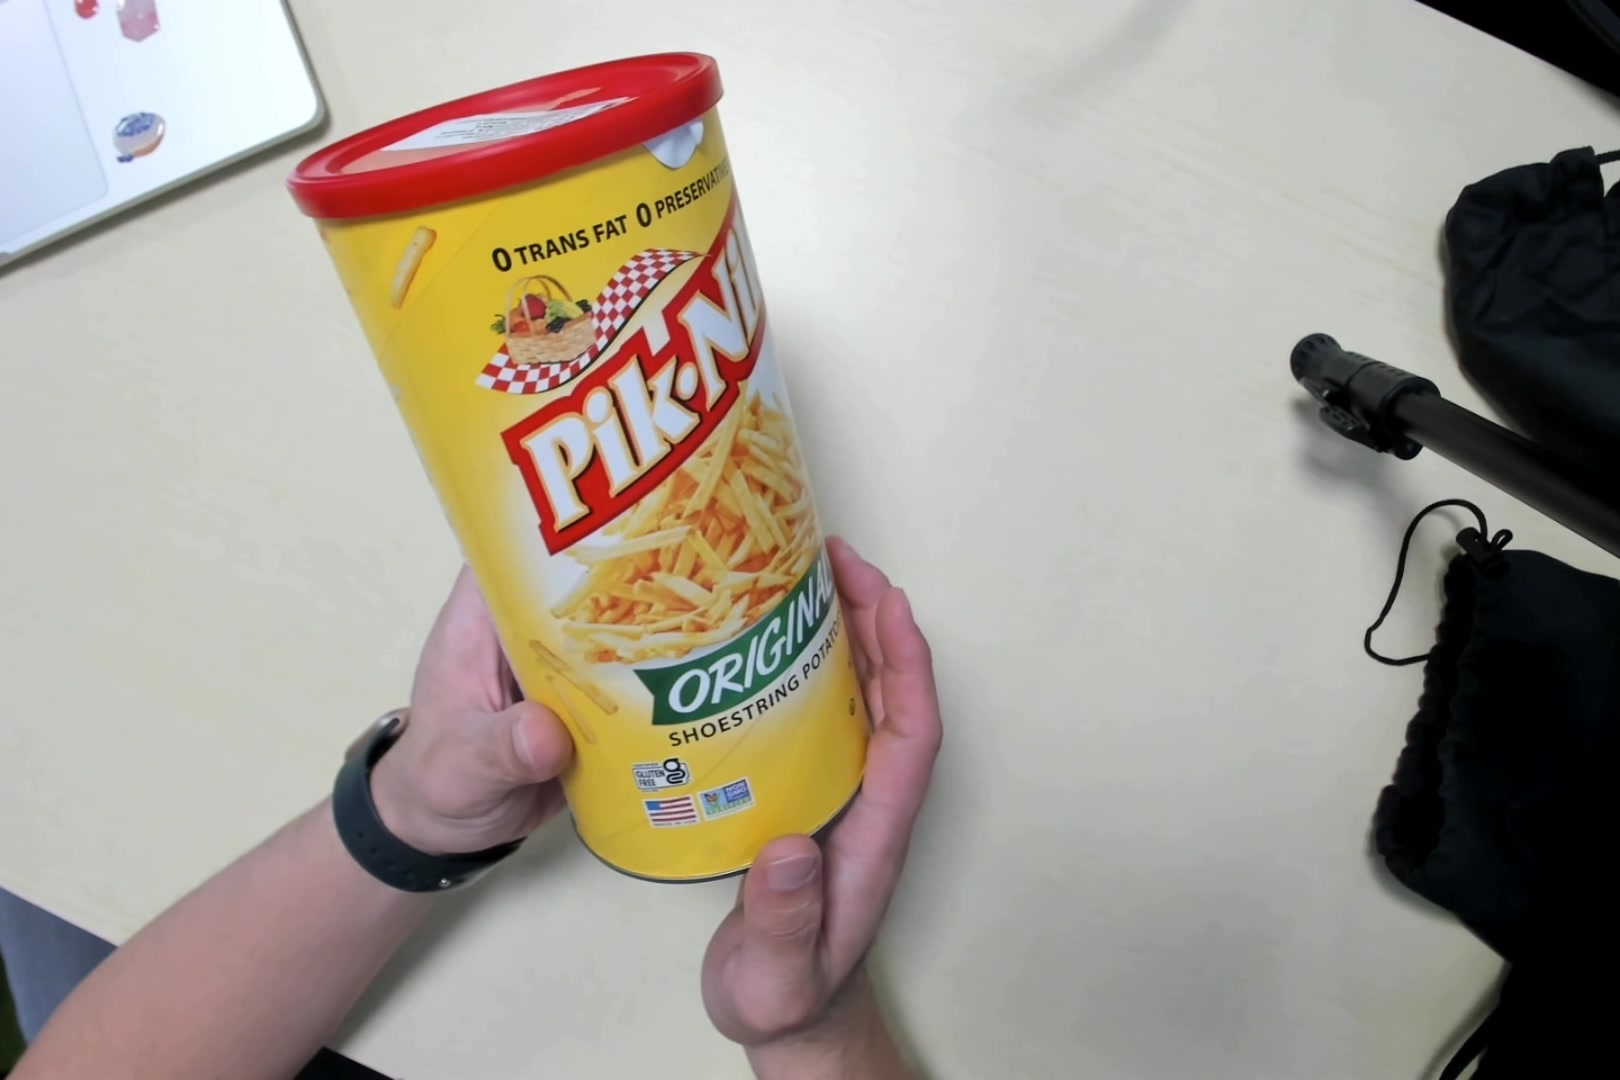PotatoChipsKeropok_200-299g_NonHalal_NonHealthy: (312, 58, 874, 877)
